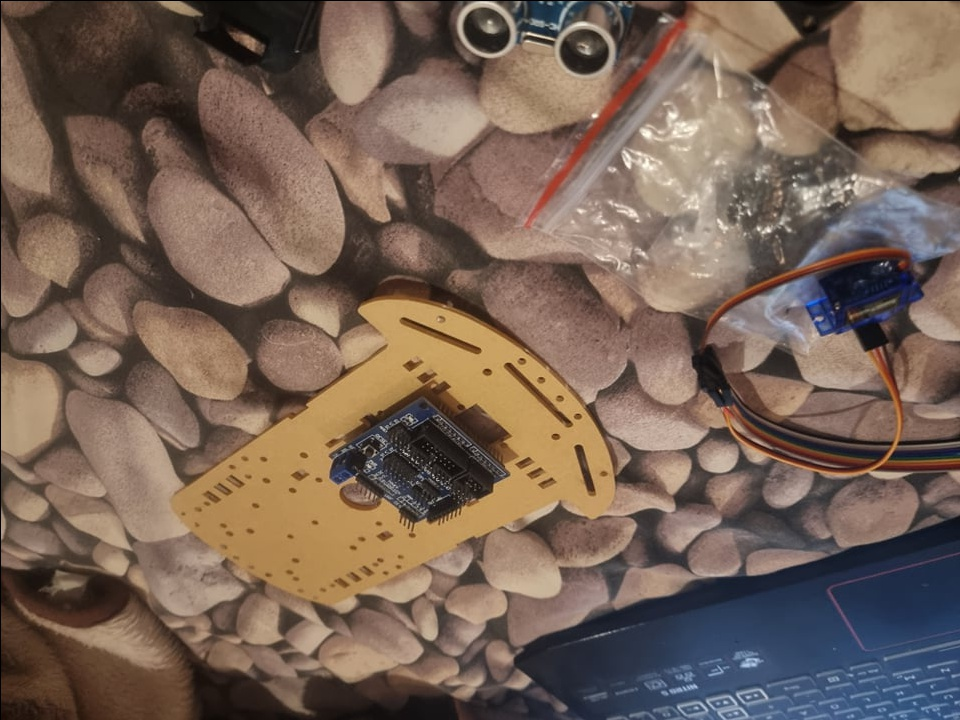5V EXPANSION: (329, 392, 509, 530)
SENSOR: (450, 0, 639, 76)
